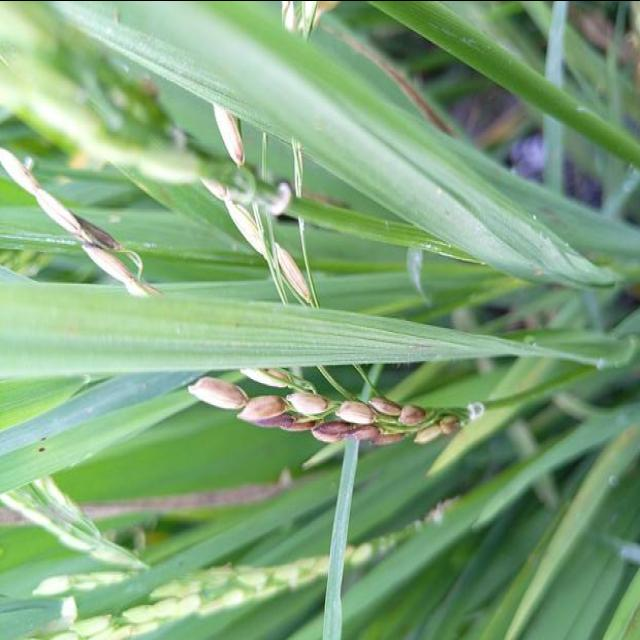Panicle Blight: (0, 151, 161, 295), (191, 377, 460, 446), (214, 105, 246, 166)
